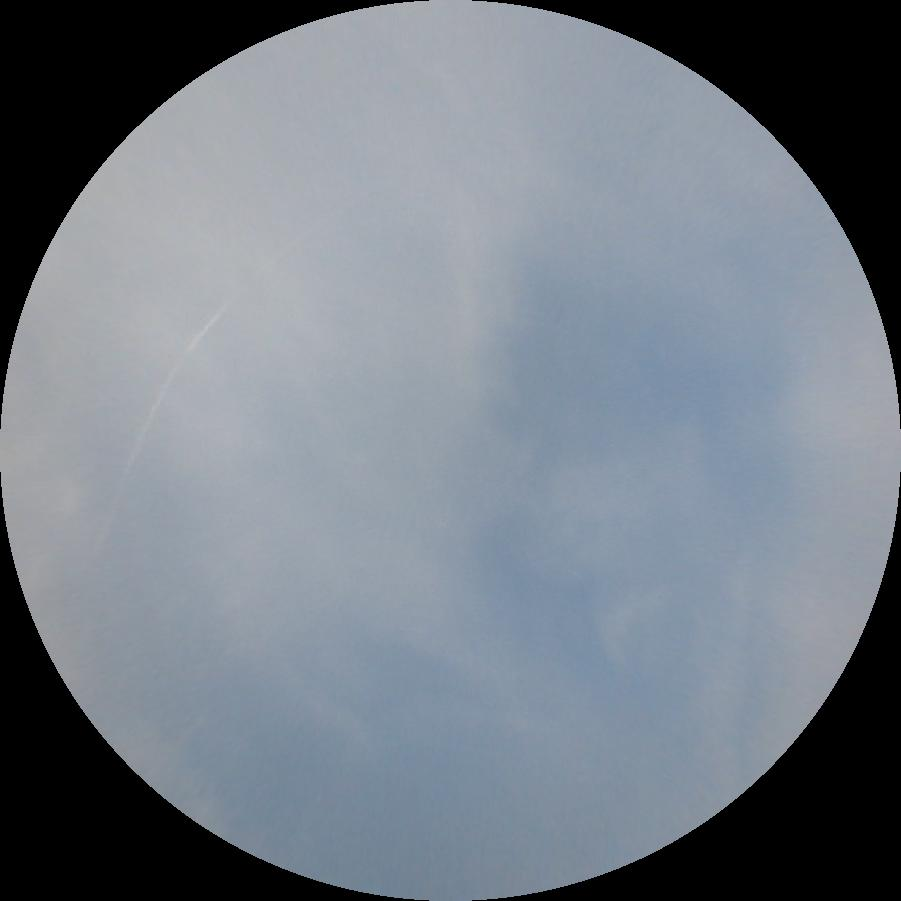contrail young: (89, 187, 378, 551)
